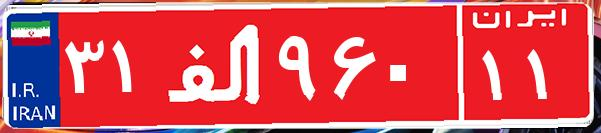0: (385, 28, 445, 110)
1: (475, 38, 525, 113), (110, 28, 158, 105), (525, 38, 570, 115)
3: (57, 26, 110, 107)
6: (330, 28, 385, 110)
9: (273, 28, 330, 110)
الف: (158, 15, 273, 115)
